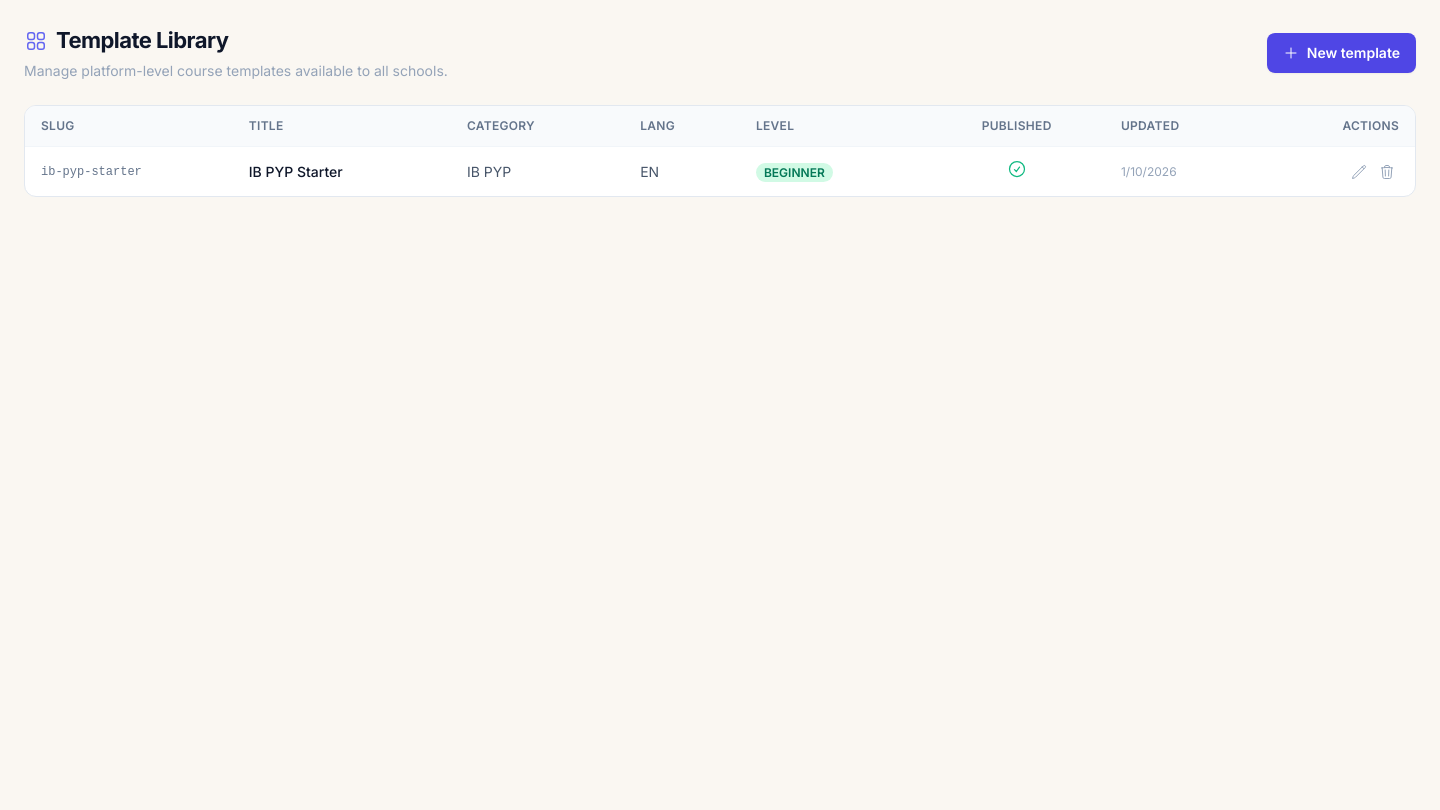
Test case: SuperAdminTemplateManagerPage › hard delete confirm button disabled without "I understand" checkbox
The width and height of the screenshot is (1440, 810).
Check: the element with test id "templates-table" is shown, box x1=24 y1=105 x2=1416 y2=197
Step 1. Click the button named "Delete" → (1387, 172), box x1=1375 y1=160 x2=1399 y2=184
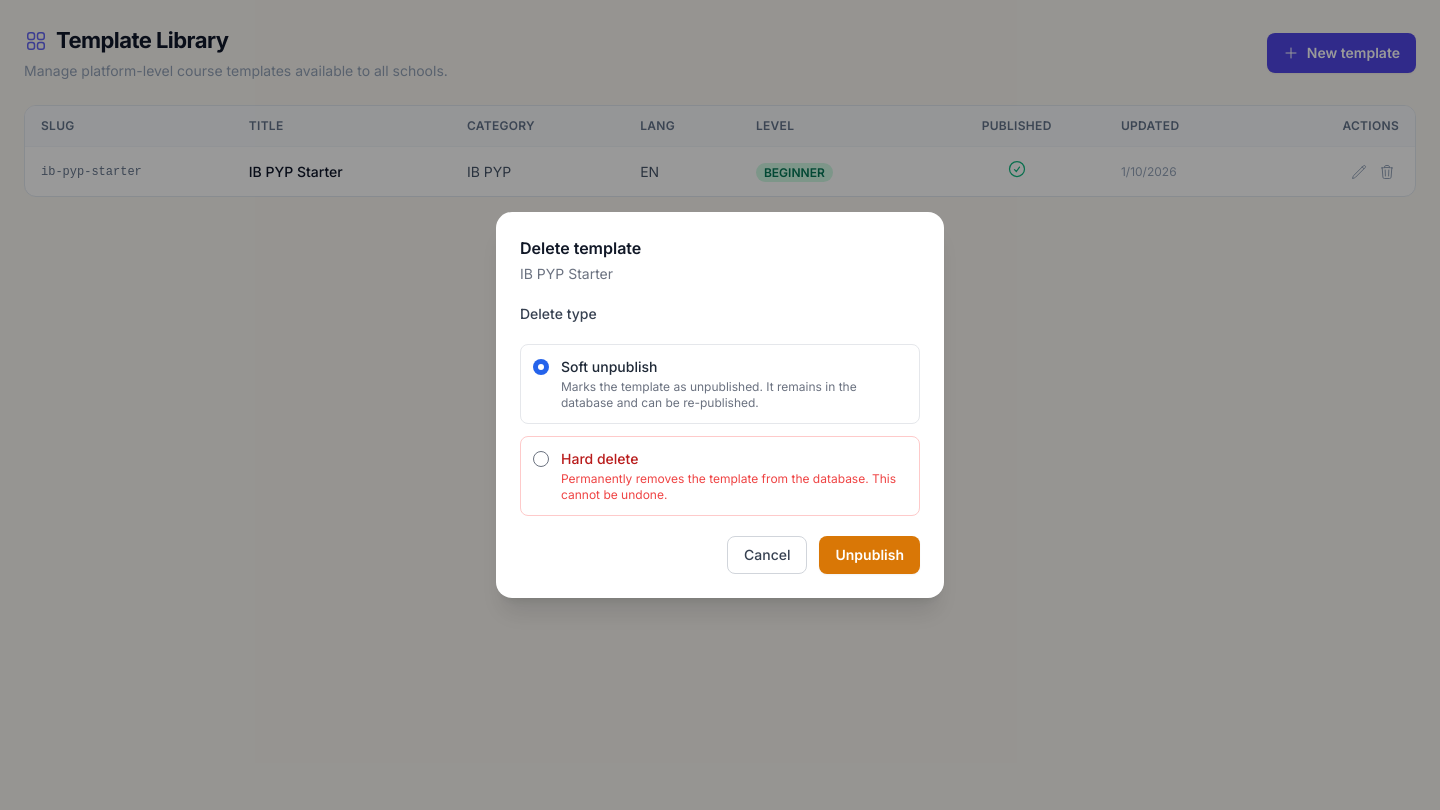
// Select hard delete
Step 2. Click the radio button with test id "radio-hard" → (541, 459), box x1=533 y1=451 x2=549 y2=467
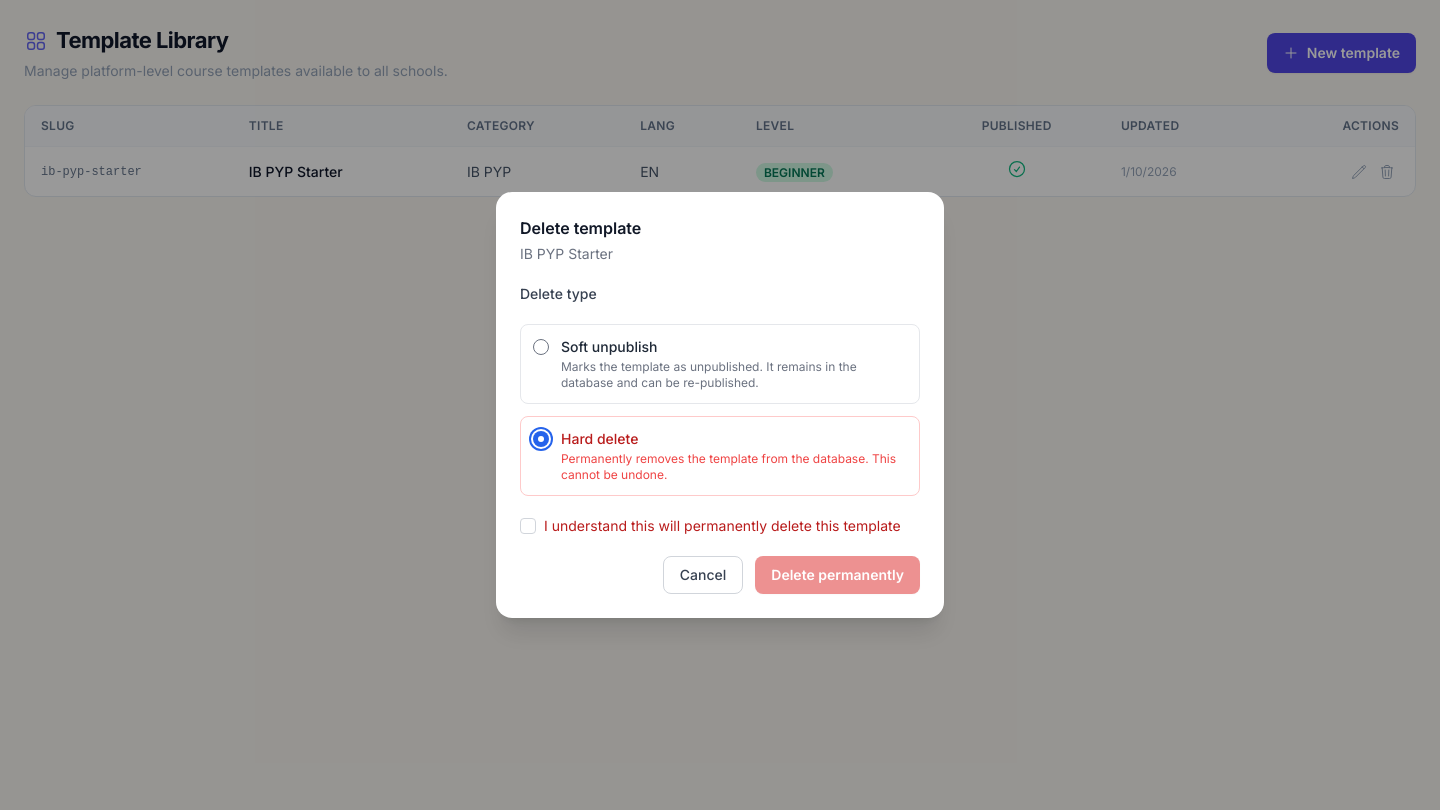
Check: the button with test id "confirm-delete-btn" is disabled, box x1=755 y1=556 x2=920 y2=594
